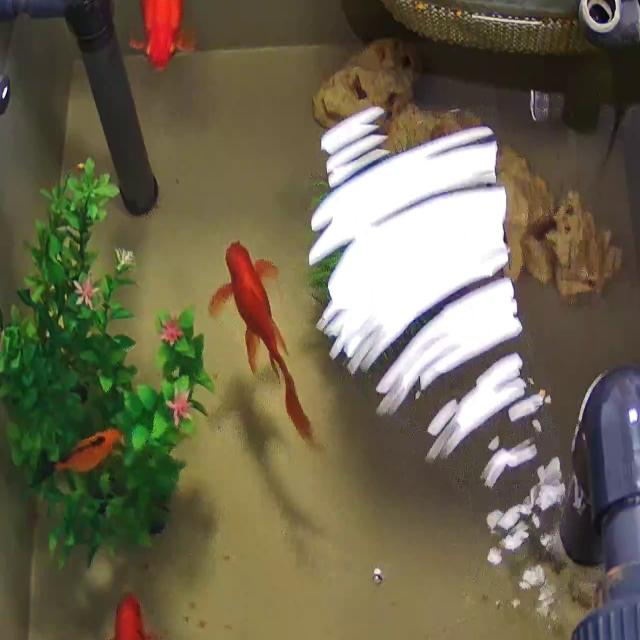fish: (217, 238, 316, 447), (126, 0, 190, 70), (110, 578, 172, 640), (51, 428, 125, 474)
